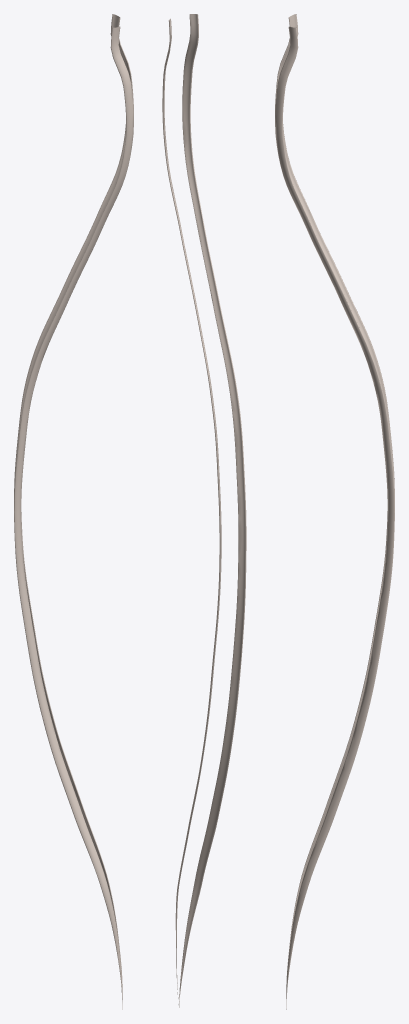
The model's file is nervoso-anterior-spinocerebellar-tract.glb.
The picture shows the model from 3 angles, left to right: view 1: azimuth 90°, elevation 25°; view 2: azimuth 210°, elevation 25°; view 3: azimuth 270°, elevation 25°; orthographic projection.
Parts seen in each view (by area): view 1: Anterior spinocerebellar tract; view 2: Anterior spinocerebellar tract; view 3: Anterior spinocerebellar tract.
Part boxes in pixels (x1=…): Anterior spinocerebellar tract: x1=14, y1=14, x2=133, y2=1009; Anterior spinocerebellar tract: x1=162, y1=14, x2=246, y2=1007; Anterior spinocerebellar tract: x1=275, y1=14, x2=394, y2=1009.
Bounding box in the file's own units: 0.0147 × 0.4896 × 0.0538.
